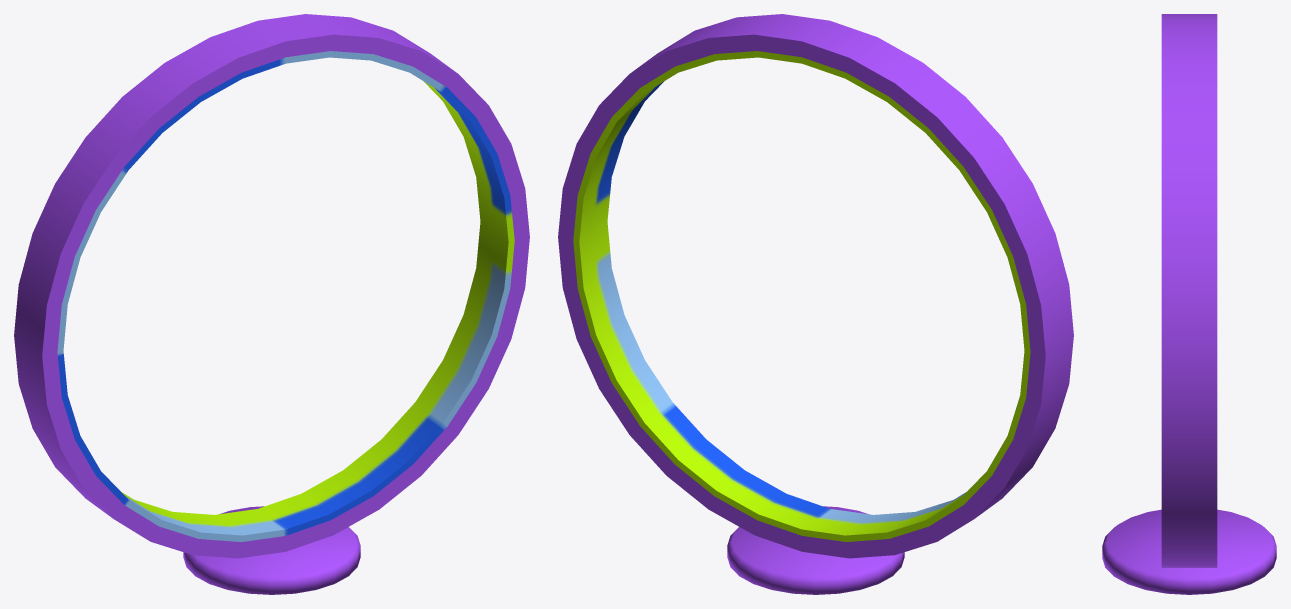
The model's file is LightTable07_1.FBX.
3 views of the same model, side by side, from view 1: azimuth 30°, elevation 25°; view 2: azimuth 150°, elevation 25°; view 3: azimuth 270°, elevation 25° (orthographic).
Visible parts, largest first — view 1: LightTable07_1; view 2: LightTable07_1; view 3: LightTable07_1.
Boxes of the visible parts, x1=… form: LightTable07_1: x1=14, y1=14, x2=529, y2=594; LightTable07_1: x1=558, y1=14, x2=1073, y2=594; LightTable07_1: x1=1102, y1=14, x2=1276, y2=594.
Size of the model in its own units: 38.13 by 39.33 by 12.
